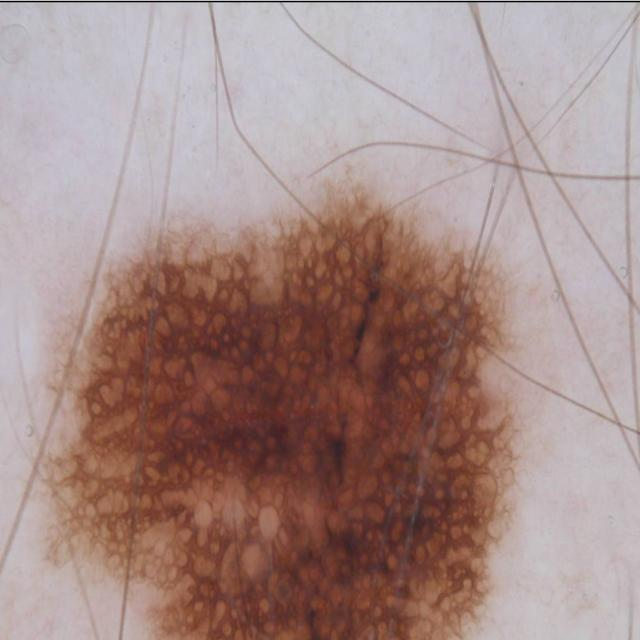Melanoma: (24, 184, 631, 640)
